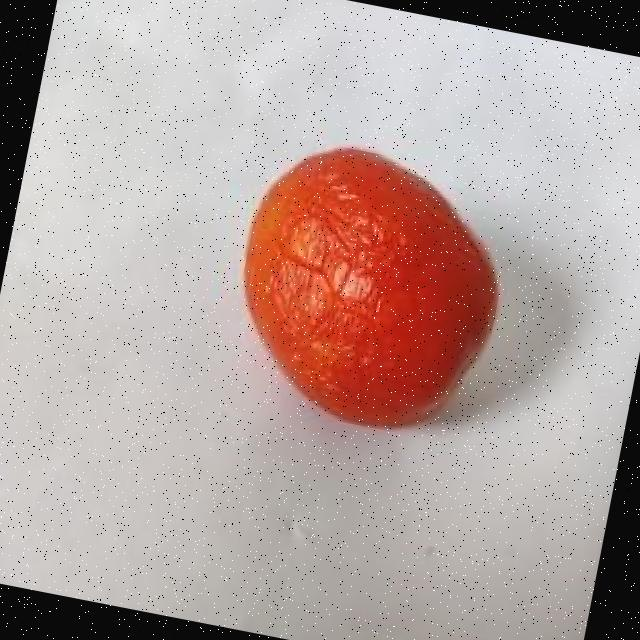overripe: (214, 131, 528, 452)
